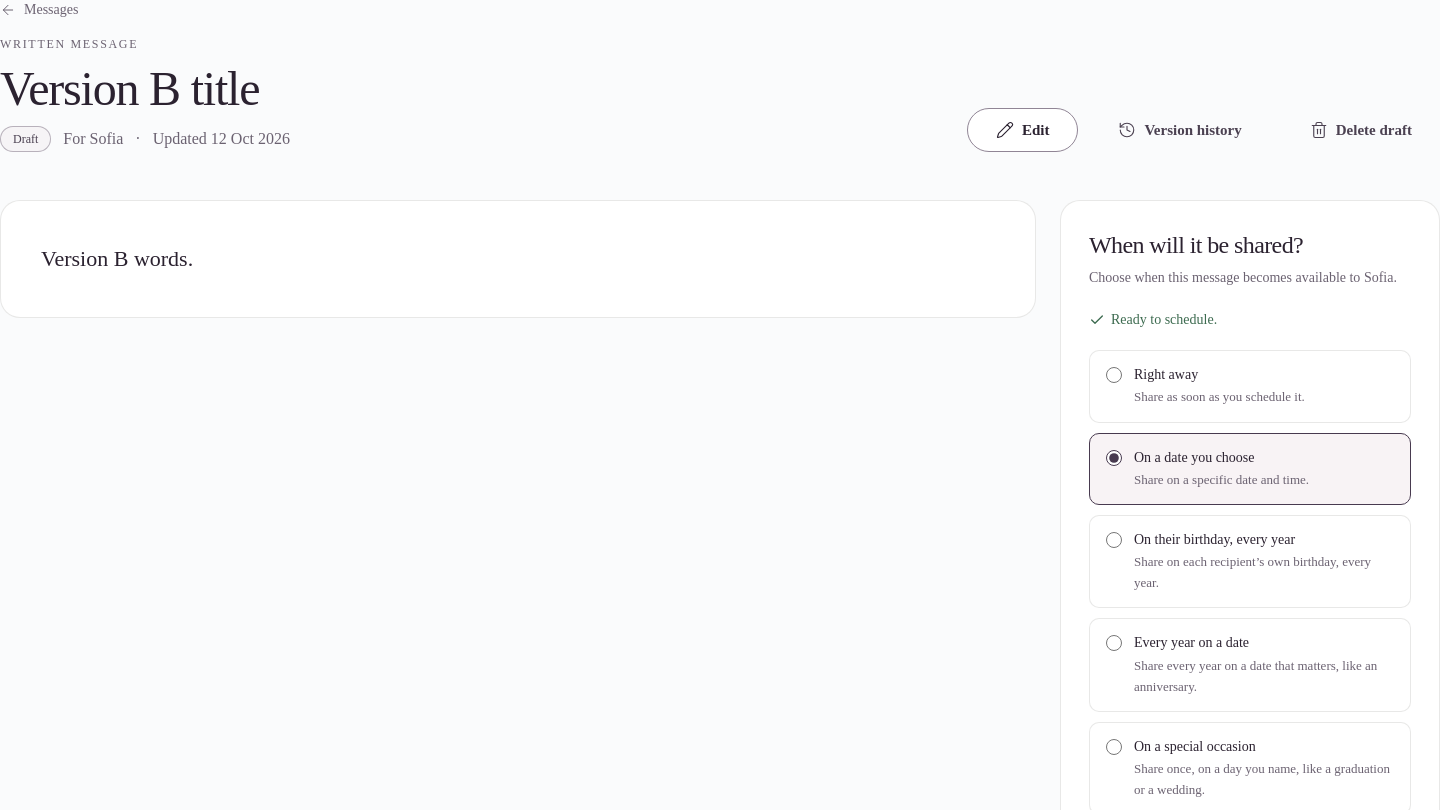
Test: Version history › a message from before version history explains that versions start with the next save
Click the button "Version history". click: [1180, 130]
box: [1090,108,1270,152]
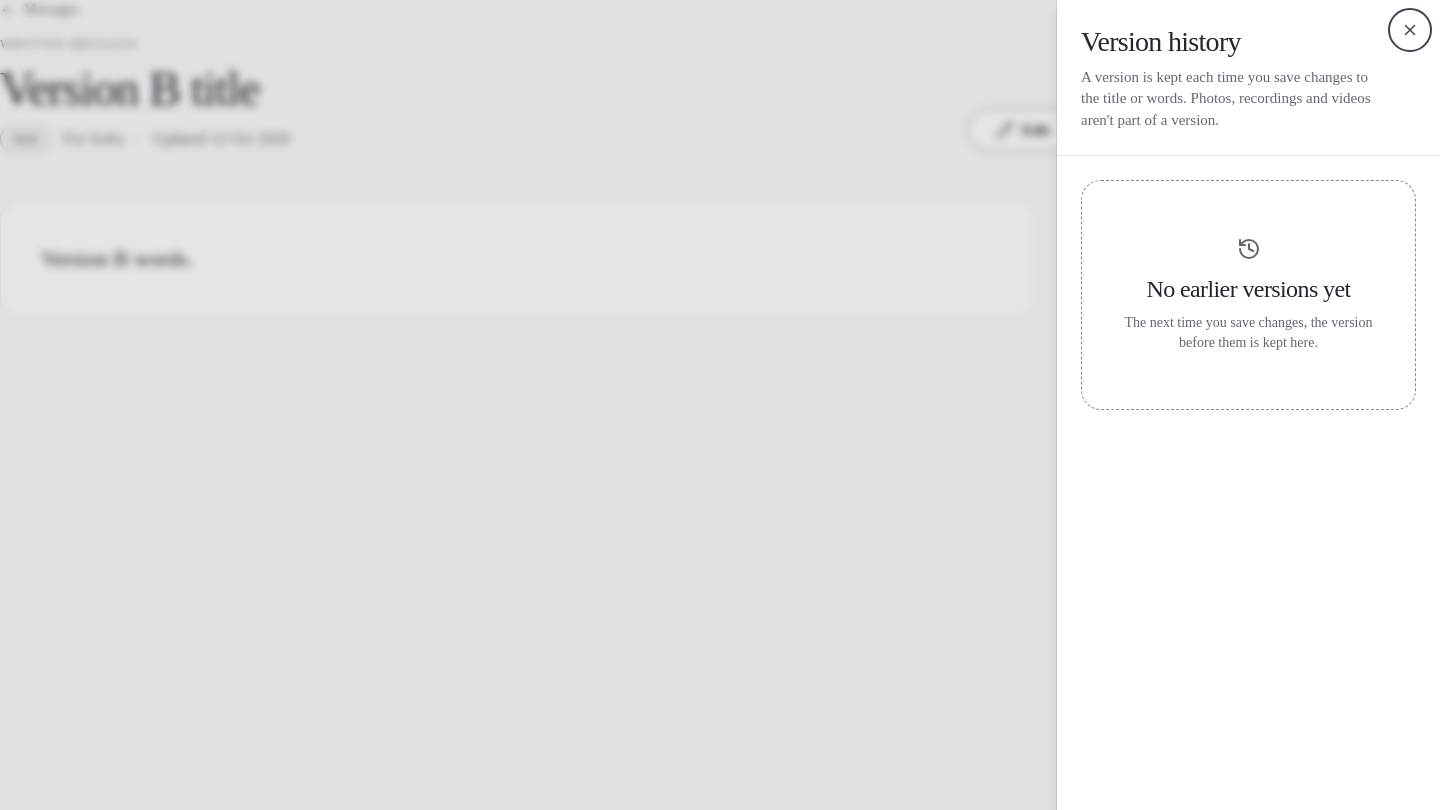
Now the heading "No earlier versions yet" is shown, box [1146,273,1350,305]
